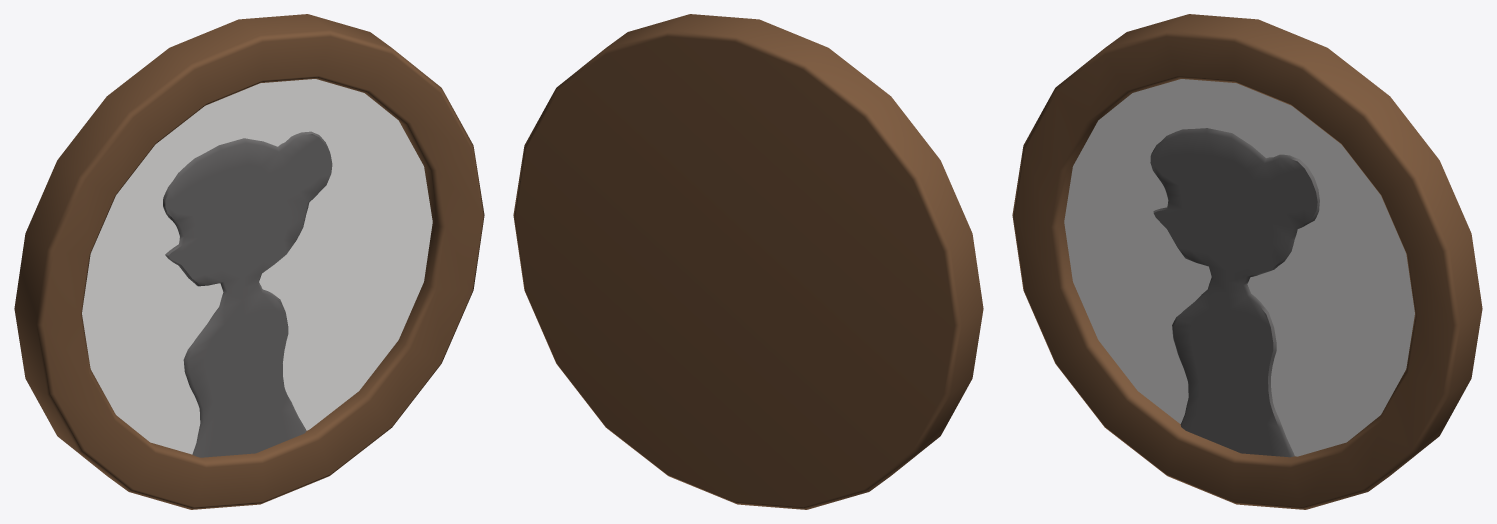
File: Painting_16.glb
The picture shows the model from 3 angles, left to right: view 1: azimuth 30°, elevation 25°; view 2: azimuth 150°, elevation 25°; view 3: azimuth 330°, elevation 25°; orthographic projection.
Visible parts, largest first — view 1: Painting_16; view 2: Painting_16; view 3: Painting_16.
Part boxes in pixels (x1,y1,x2,y2): Painting_16: (14,14,484,509); Painting_16: (513,14,983,509); Painting_16: (1012,14,1482,509).
Size of the model in its own units: 0.7097 by 0.7097 by 0.0741.
1 material, 1 textured.
